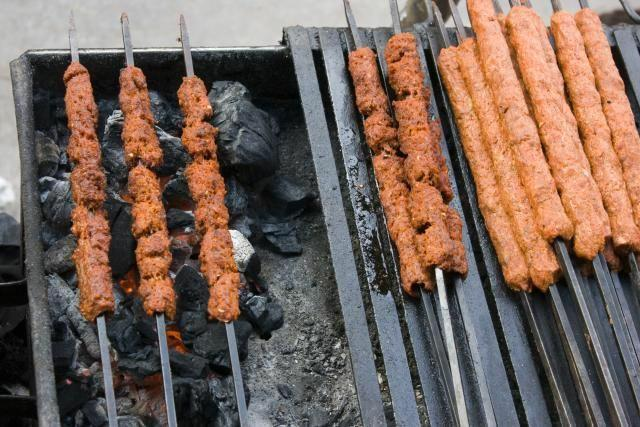Kebab: (465, 0, 574, 244), (456, 36, 560, 290), (506, 8, 608, 260), (438, 46, 528, 290), (549, 10, 640, 246), (170, 74, 252, 320), (348, 48, 431, 290), (387, 35, 468, 274), (48, 64, 118, 319), (114, 61, 175, 313), (575, 8, 640, 224)
